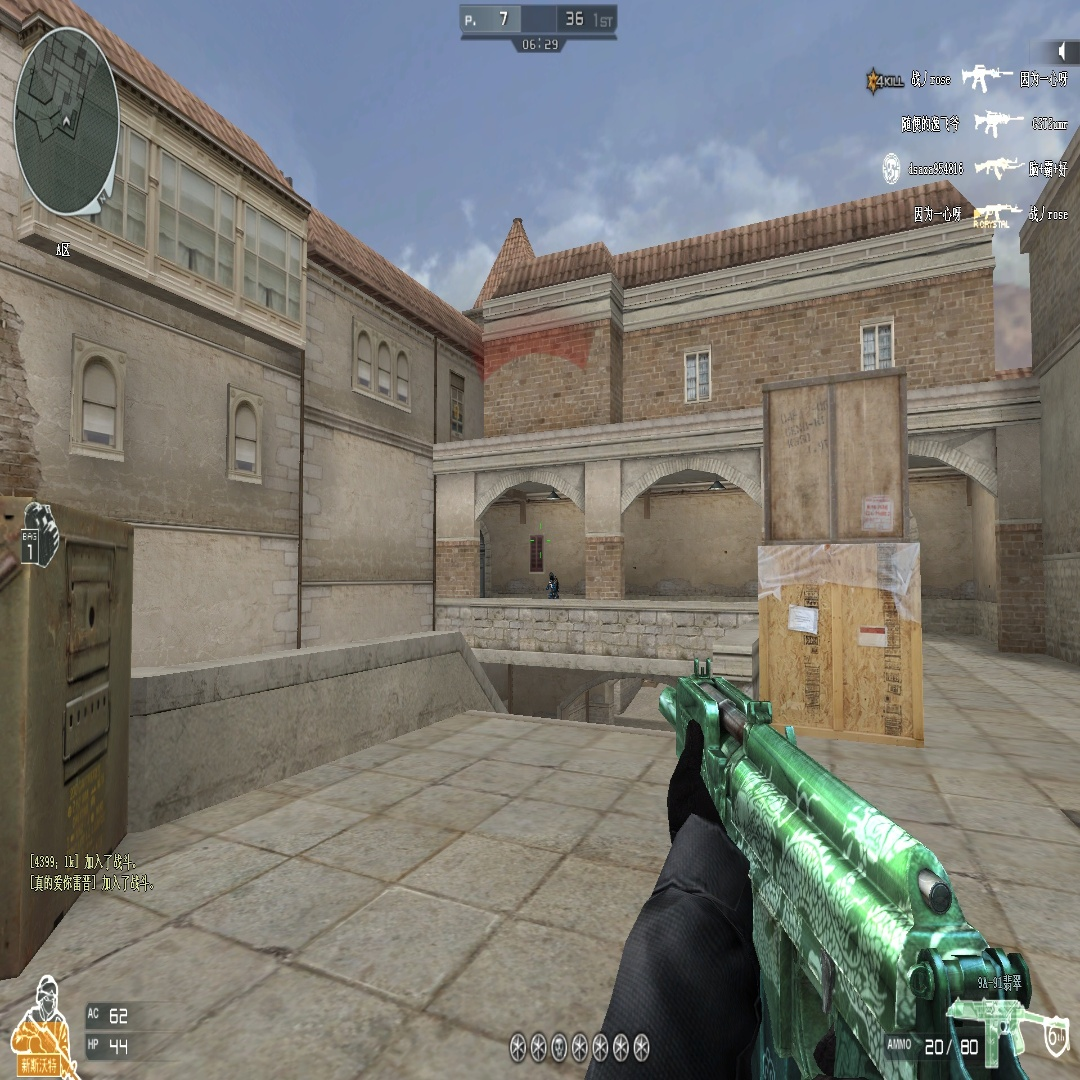head: (548, 572, 555, 582)
p: (546, 571, 558, 599)
